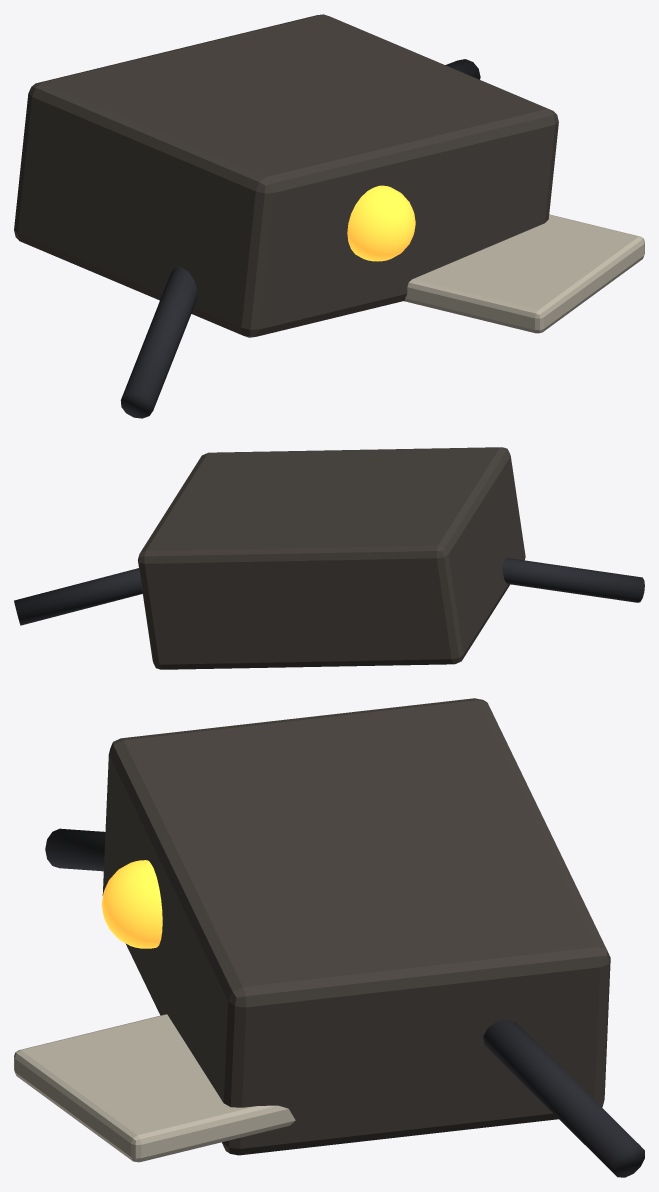
File: Wreck.fbx
3 views of the same model, one above another, from view 1: azimuth 30°, elevation 25°; view 2: azimuth 150°, elevation 25°; view 3: azimuth 270°, elevation 25° (orthographic). The views are drawn at different scales.
Parts seen in each view (by area): view 1: Part__CorrodedMetal__4a4540, Part__SmoothPlastic__bfb8a8, Part__Metal__2e2f34, Part__Neon__ff6a28; view 2: Part__CorrodedMetal__4a4540, Part__Metal__2e2f34; view 3: Part__CorrodedMetal__4a4540, Part__SmoothPlastic__bfb8a8, Part__Metal__2e2f34, Part__Neon__ff6a28.
Boxes of the visible parts, left/top/right/bottom form: Part__CorrodedMetal__4a4540: left=14, top=14, right=558, bottom=337; Part__SmoothPlastic__bfb8a8: left=404, top=214, right=644, bottom=333; Part__Metal__2e2f34: left=120, top=59, right=480, bottom=418; Part__Neon__ff6a28: left=347, top=185, right=415, bottom=261; Part__CorrodedMetal__4a4540: left=138, top=447, right=525, bottom=669; Part__Metal__2e2f34: left=14, top=557, right=644, bottom=625; Part__CorrodedMetal__4a4540: left=102, top=698, right=610, bottom=1155; Part__SmoothPlastic__bfb8a8: left=14, top=1014, right=295, bottom=1162; Part__Metal__2e2f34: left=45, top=828, right=644, bottom=1177; Part__Neon__ff6a28: left=101, top=860, right=162, bottom=948.
Size of the model in its own units: 3.21 by 1.05 by 2.55.
